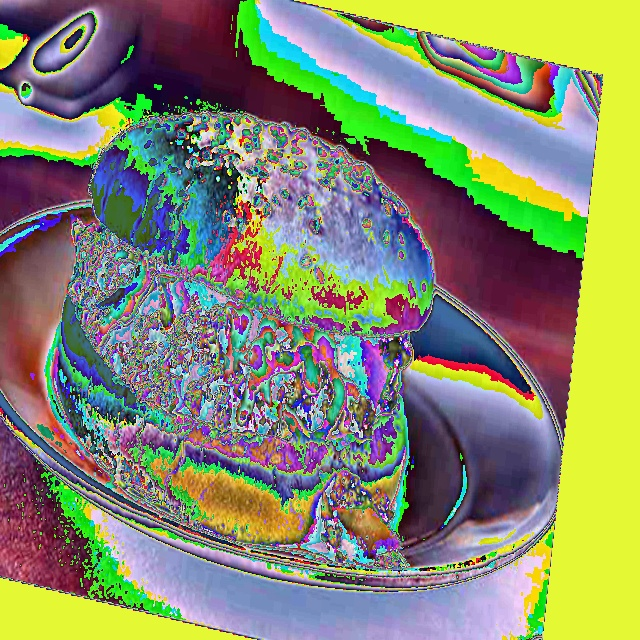background: (52, 108, 435, 565)
